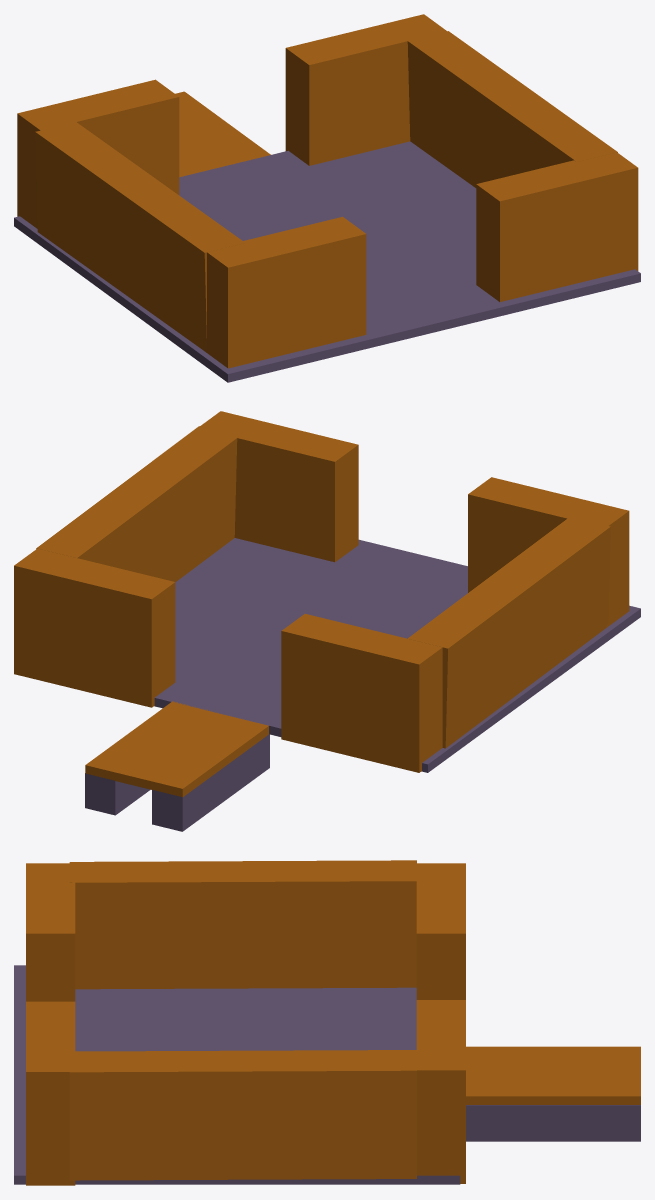
The model's file is SM_Prototype _04.fbx.
3 renders of one model, top to bottom at view 1: azimuth 30°, elevation 25°; view 2: azimuth 150°, elevation 25°; view 3: azimuth 270°, elevation 25°, orthographic. The views are drawn at different scales.
Visible parts, largest first — view 1: SM_Prototype _04; view 2: SM_Prototype _04; view 3: SM_Prototype _04.
Boxes of the visible parts, bbox=[...] form: SM_Prototype _04: bbox=[14, 14, 640, 382]; SM_Prototype _04: bbox=[14, 411, 640, 831]; SM_Prototype _04: bbox=[14, 860, 640, 1185].
Size of the model in its own units: 16.67 by 5.47 by 20.69.
